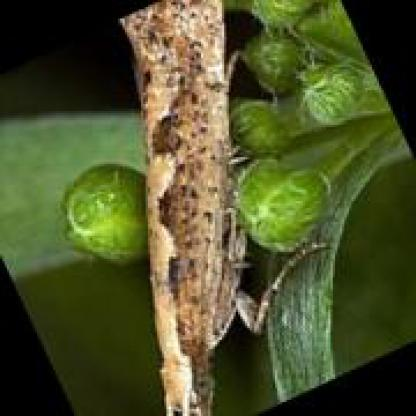plutella: (112, 3, 335, 413)
